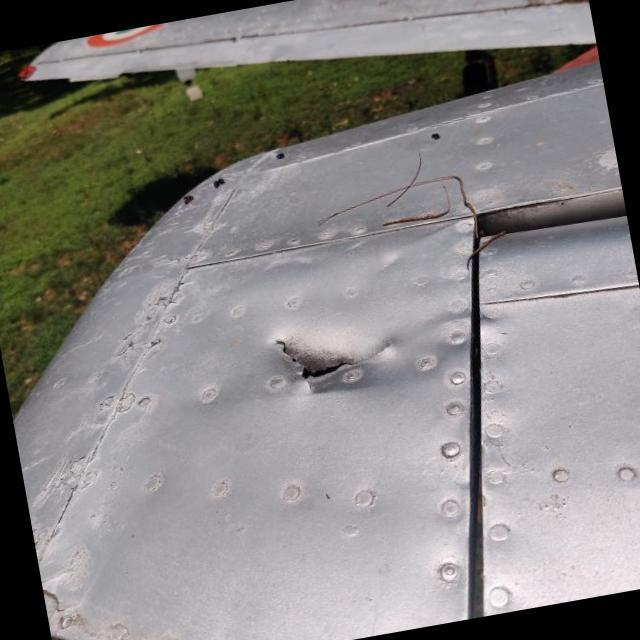Rupture: (246, 282, 408, 425)
